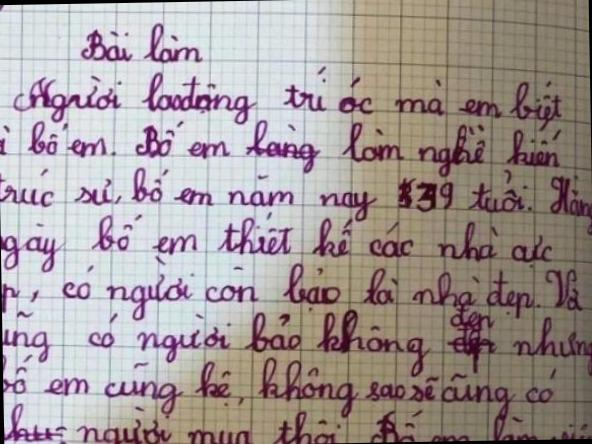text: (0, 156, 592, 247), (1, 300, 592, 390), (2, 342, 562, 430), (0, 102, 565, 187), (0, 253, 586, 331), (0, 204, 556, 280), (10, 63, 562, 135), (3, 391, 592, 444), (76, 20, 204, 67)
